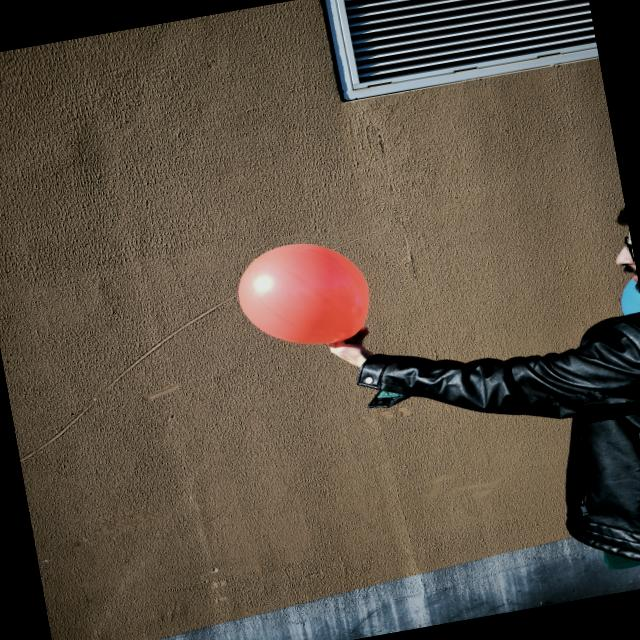balloon: (238, 244, 369, 343), (367, 220, 371, 223)
